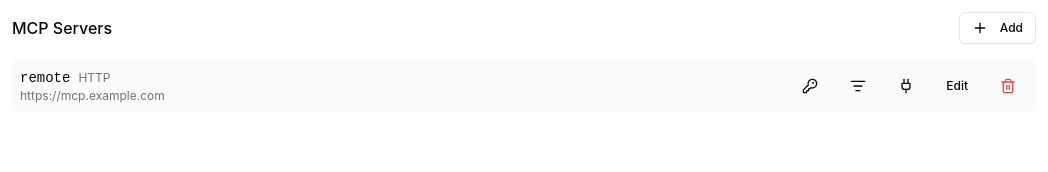
Scenario: McpServerSection › navigates to the authorization URL and stays busy while leaving
Step 1. Click the button titled "Connect with OAuth" → (810, 86), box x1=790 y1=70 x2=830 y2=102
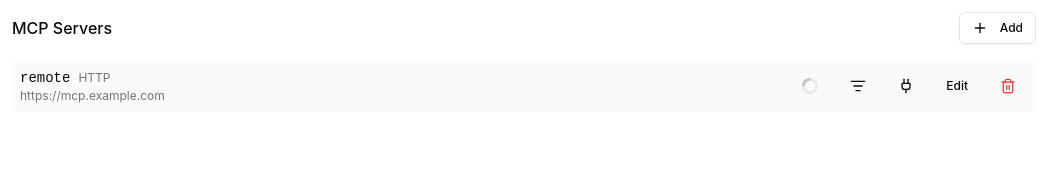
Now the button titled "Connect with OAuth" is disabled, box x1=790 y1=70 x2=830 y2=102
